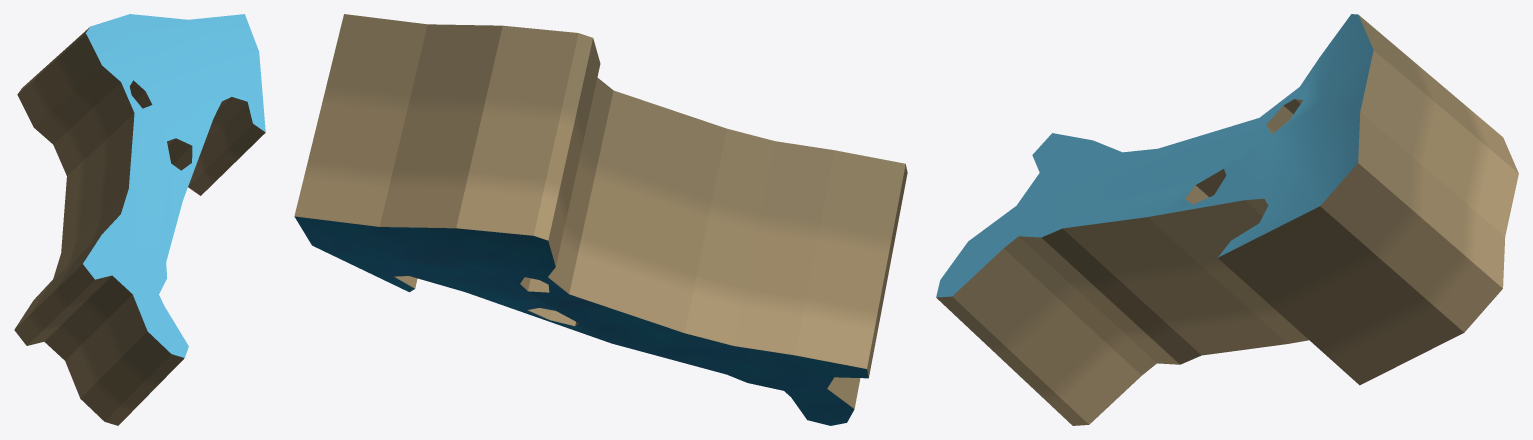
The model's file is 066e_Italy.glb.
The picture shows the model from 3 angles, left to right: view 1: azimuth 30°, elevation 25°; view 2: azimuth 150°, elevation 25°; view 3: azimuth 270°, elevation 25°; orthographic projection. The views are drawn at different scales.
Parts seen in each view (by area): view 1: part_0; view 2: part_0; view 3: part_0.
Boxes of the visible parts, x1=… form: part_0: x1=14, y1=14, x2=265, y2=425; part_0: x1=294, y1=14, x2=907, y2=425; part_0: x1=936, y1=14, x2=1518, y2=425.
Size of the model in its own units: 0.4648 by 0.4803 by 0.5502.
1 material, 1 textured.
